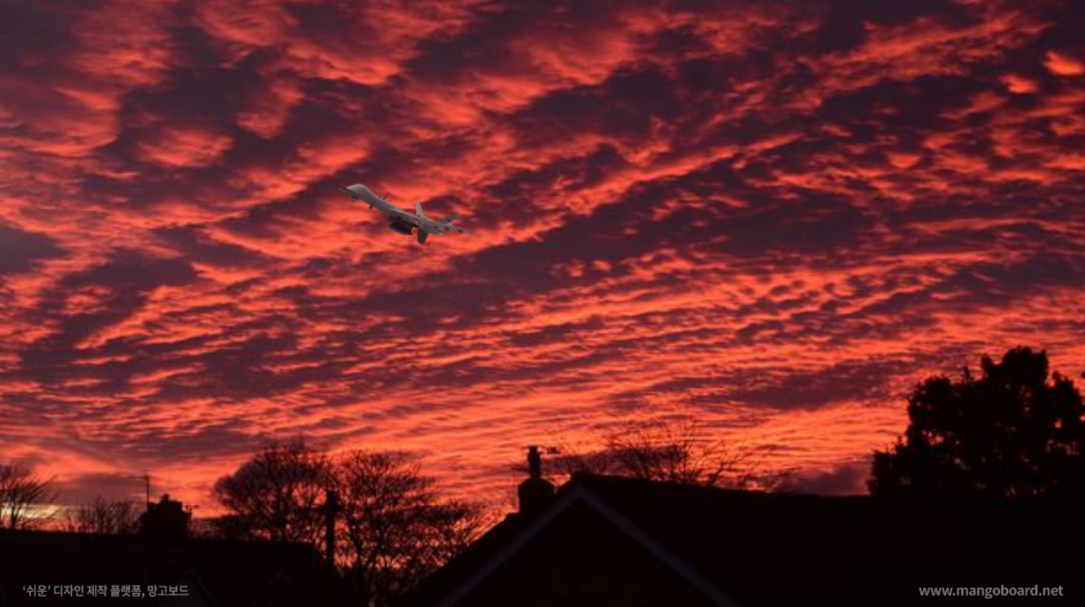military drone: (337, 183, 474, 244)
